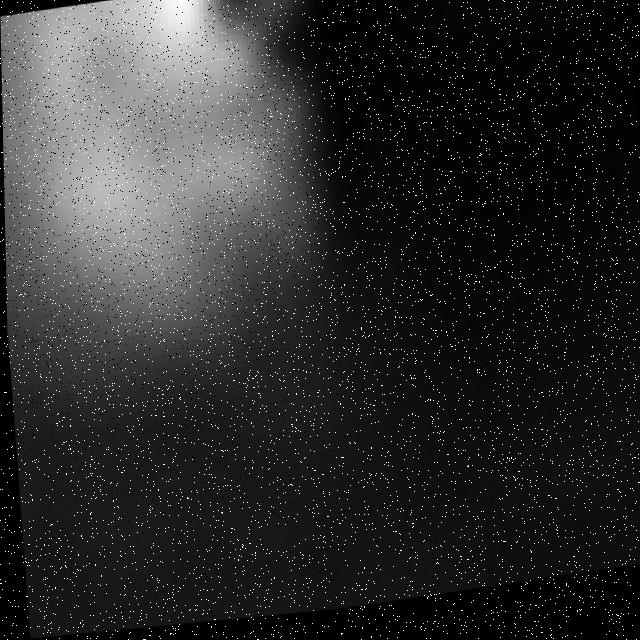person: (1, 1, 330, 509)
